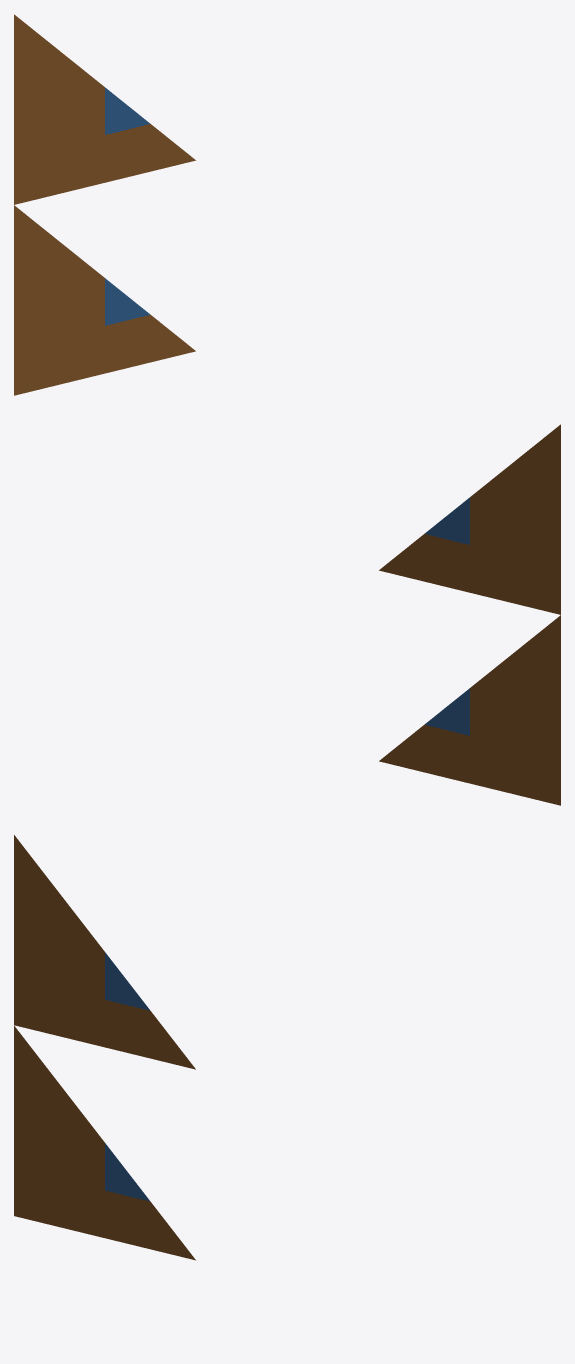
Rendered from degenerate.glb.
3 renders of one model, top to bottom at view 1: azimuth 30°, elevation 25°; view 2: azimuth 150°, elevation 25°; view 3: azimuth 330°, elevation 25°, orthographic.
Bounding box in the file's own units: 3 × 2 × 0.
Materials: 1 (1 with a texture image).
